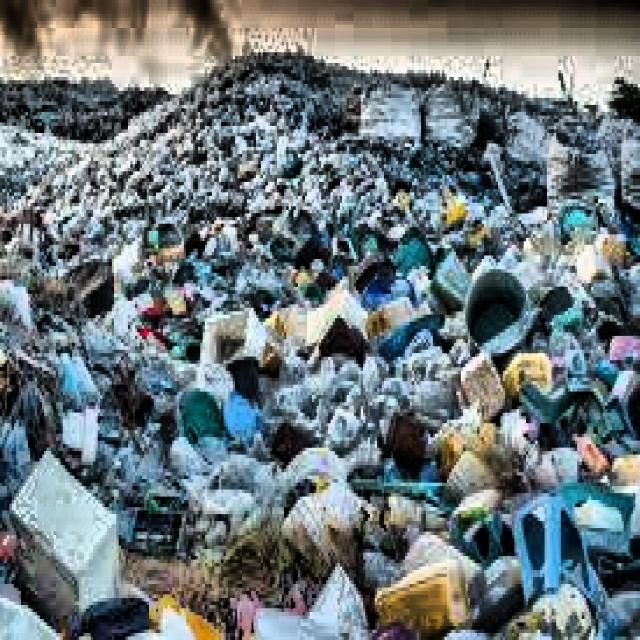garbage: (0, 77, 638, 636)
